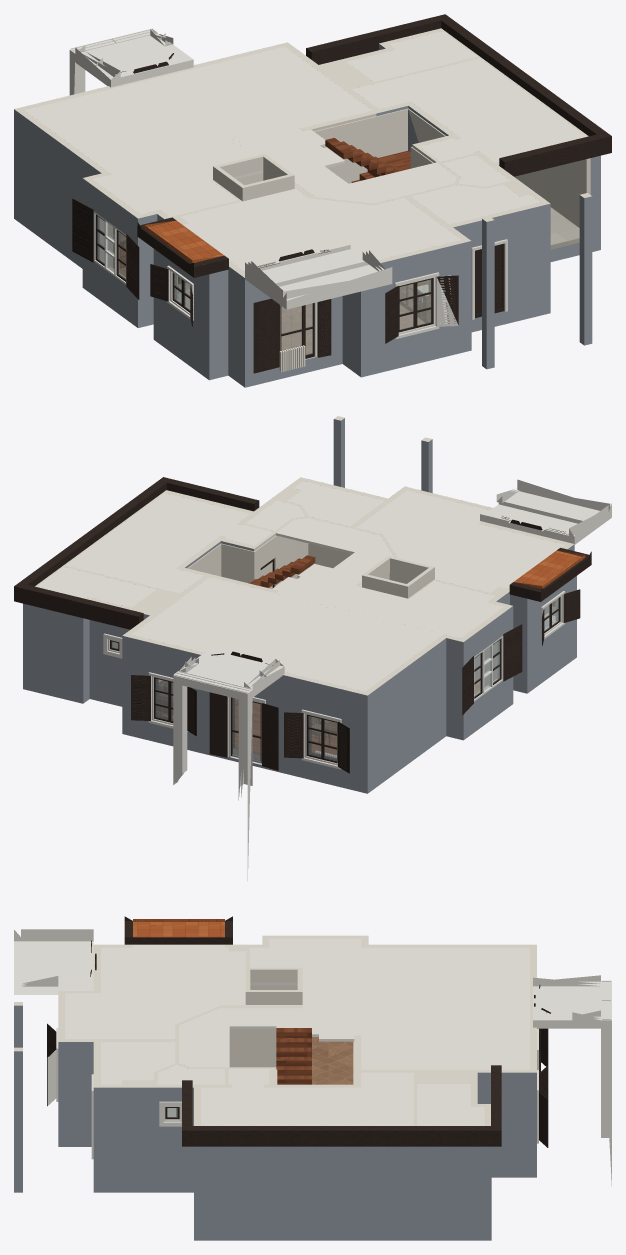
The model's file is villa-f1.glb.
The picture shows the model from 3 angles, top to bottom: view 1: azimuth 30°, elevation 25°; view 2: azimuth 150°, elevation 25°; view 3: azimuth 270°, elevation 25°; orthographic projection. The views are drawn at different scales.
Visible parts, largest first — view 1: F1 | KAT 1$TAVAN, F1 | KAT 1$DUVAR, F1 | ek dalgalar, F1 | ÇATI ALIN, F1 | PENCERE_KAPI$SHUTTER, F1 | KAT 1$DUVAR KAPLAMA, F1 | PENCERE_KAPI$CAM, F1 | PENCERE_KAPI$ÇERÇEVE, F1 | KAT 1$ZEMİN KAPLAMA, F1 | ÇATII, F1 | KAT 1$MERDİVEN, F1 | PENCERE_KAPI$CEPHE FRAME (+6 smaller); view 2: F1 | KAT 1$TAVAN, F1 | KAT 1$DUVAR, F1 | ek dalgalar, F1 | PENCERE_KAPI$SHUTTER, F1 | ÇATI ALIN, F1 | KAT 1$DUVAR KAPLAMA, F1 | PENCERE_KAPI$CAM, F1 | PENCERE_KAPI$ÇERÇEVE, F1 | PENCERE_KAPI$ÇEPHE ÇERÇECE, F1 | PENCERE_KAPI$CEPHE FRAME, F1 | ÇATII, F1 | KAT 1$ZEMİN KAPLAMA (+2 smaller); view 3: F1 | KAT 1$TAVAN, F1 | KAT 1$DUVAR, F1 | ek dalgalar, F1 | ÇATI ALIN, F1 | KAT 1$DUVAR KAPLAMA, F1 | KAT 1$MERDİVEN, F1 | PENCERE_KAPI$SHUTTER, F1 | KAT 1$ZEMİN KAPLAMA, F1 | ÇATII, F1 | PENCERE_KAPI$CEPHE FRAME, Lift shaft side wall.003, Lift shaft side wall.002.
Part boxes in pixels (x1=…): F1 | KAT 1$TAVAN: x1=24, y1=31, x2=586, y2=271; F1 | KAT 1$DUVAR: x1=14, y1=28, x2=600, y2=387; F1 | ek dalgalar: x1=69, y1=28, x2=392, y2=309; F1 | ÇATI ALIN: x1=137, y1=14, x2=611, y2=277; F1 | PENCERE_KAPI$SHUTTER: x1=72, y1=57, x2=458, y2=373; F1 | KAT 1$DUVAR KAPLAMA: x1=100, y1=108, x2=590, y2=308; F1 | PENCERE_KAPI$CAM: x1=97, y1=216, x2=431, y2=354; F1 | PENCERE_KAPI$ÇERÇEVE: x1=95, y1=61, x2=433, y2=358; F1 | KAT 1$ZEMİN KAPLAMA: x1=113, y1=207, x2=579, y2=354; F1 | ÇATII: x1=144, y1=220, x2=223, y2=262; F1 | KAT 1$MERDİVEN: x1=325, y1=138, x2=410, y2=182; F1 | PENCERE_KAPI$CEPHE FRAME: x1=167, y1=239, x2=507, y2=356; F1 | KAT 1$TAVAN: x1=36, y1=481, x2=565, y2=691; F1 | KAT 1$DUVAR: x1=23, y1=416, x2=576, y2=793; F1 | ek dalgalar: x1=173, y1=479, x2=611, y2=880; F1 | PENCERE_KAPI$SHUTTER: x1=131, y1=516, x2=580, y2=773; F1 | ÇATI ALIN: x1=14, y1=477, x2=591, y2=629; F1 | KAT 1$DUVAR KAPLAMA: x1=112, y1=535, x2=555, y2=695; F1 | PENCERE_KAPI$CAM: x1=112, y1=598, x2=558, y2=760; F1 | PENCERE_KAPI$ÇERÇEVE: x1=110, y1=519, x2=560, y2=763; F1 | PENCERE_KAPI$ÇEPHE ÇERÇECE: x1=108, y1=521, x2=562, y2=765; F1 | PENCERE_KAPI$CEPHE FRAME: x1=103, y1=520, x2=565, y2=769; F1 | ÇATII: x1=514, y1=550, x2=585, y2=588; F1 | KAT 1$ZEMİN KAPLAMA: x1=163, y1=678, x2=485, y2=761; F1 | KAT 1$TAVAN: x1=65, y1=938, x2=529, y2=1125; F1 | KAT 1$DUVAR: x1=14, y1=935, x2=536, y2=1240; F1 | ek dalgalar: x1=14, y1=929, x2=611, y2=1185; F1 | ÇATI ALIN: x1=124, y1=916, x2=501, y2=1146; F1 | KAT 1$DUVAR KAPLAMA: x1=167, y1=985, x2=354, y2=1116; F1 | KAT 1$MERDİVEN: x1=276, y1=1028, x2=311, y2=1084; F1 | PENCERE_KAPI$SHUTTER: x1=47, y1=941, x2=548, y2=1147; F1 | KAT 1$ZEMİN KAPLAMA: x1=312, y1=1037, x2=353, y2=1084; F1 | ÇATII: x1=133, y1=919, x2=224, y2=937; F1 | PENCERE_KAPI$CEPHE FRAME: x1=56, y1=951, x2=538, y2=1159; Lift shaft side wall.003: x1=245, y1=990, x2=302, y2=1004; Lift shaft side wall.002: x1=245, y1=967, x2=302, y2=982.
Bounding box in the file's own units: 13.99 × 7.37 × 16.87.
31 materials, 31 textured.
